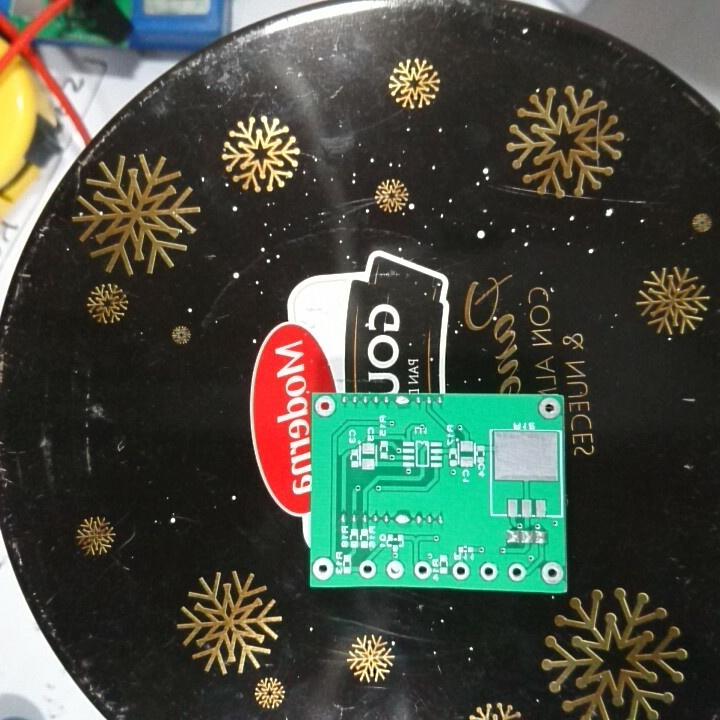F: (533, 395, 561, 423), (538, 560, 566, 586), (311, 395, 339, 420), (312, 555, 335, 583), (447, 560, 472, 583), (384, 558, 407, 581), (358, 559, 381, 581), (506, 559, 527, 582), (478, 561, 499, 583), (413, 561, 433, 581)
P: (393, 509, 410, 529), (392, 395, 410, 409)
